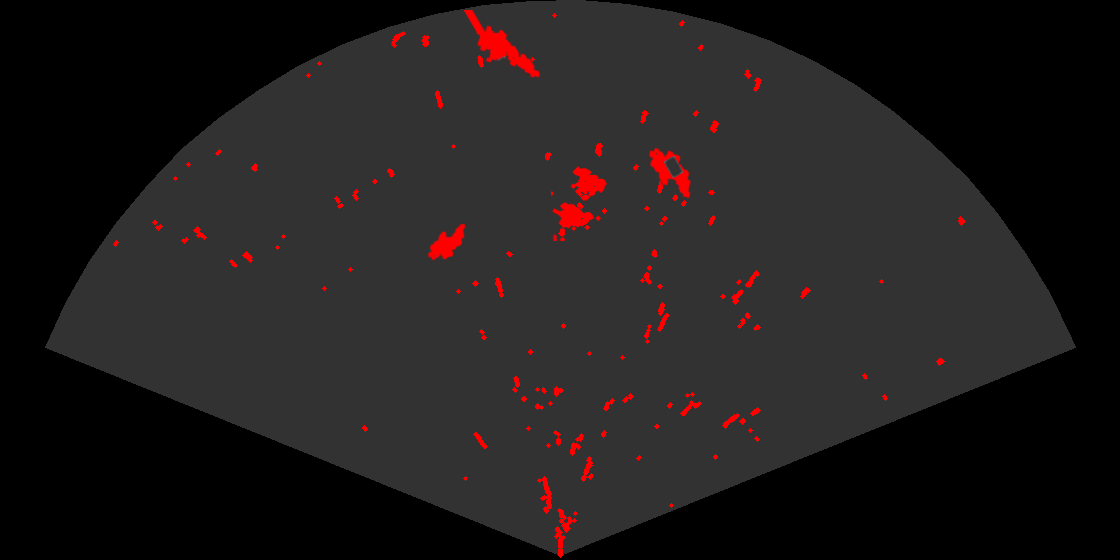AUV: (647, 146, 693, 200), (426, 222, 467, 262)
cage: (551, 165, 608, 241)
frogman: (464, 10, 542, 79)
